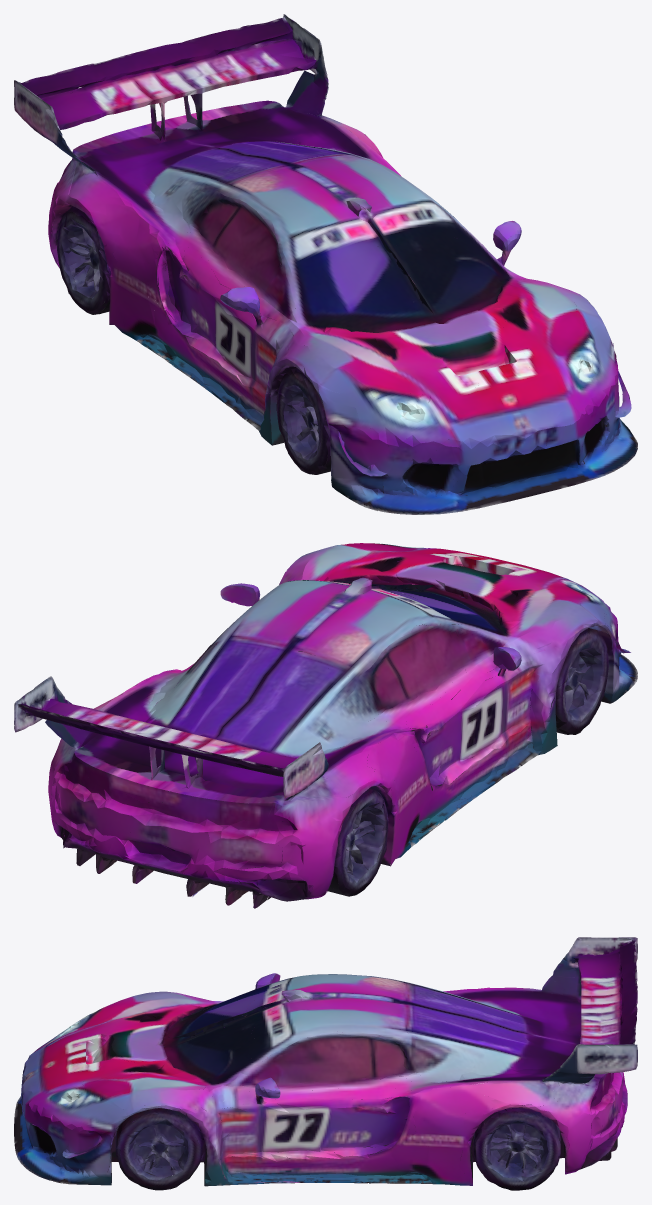
The picture shows the model from 3 angles, top to bottom: view 1: azimuth 30°, elevation 25°; view 2: azimuth 150°, elevation 25°; view 3: azimuth 270°, elevation 25°; orthographic projection. The views are drawn at different scales.
Visible parts, largest first — view 1: panel_trunk, panel_hood, panel_bumper_f, panel_roof, susp_front_L, panel_door_L, susp_rear_L, wheel_rear_L, wheel_front_L, panel_bumper_r, susp_front_R; view 2: panel_trunk, panel_roof, panel_hood, panel_bumper_r, susp_front_L, susp_rear_L, wheel_rear_L, panel_door_L, panel_bumper_f, wheel_front_L, susp_rear_R, wheel_rear_R; view 3: panel_trunk, panel_hood, panel_roof, wheel_front_R, panel_bumper_f, susp_rear_R, susp_front_R, panel_door_R, wheel_rear_R, panel_bumper_r.
Boxes of the visible parts, left/top/right/bottom form: panel_trunk: left=14, top=14, right=401, bottom=349; panel_hood: left=254, top=234, right=601, bottom=441; panel_bumper_f: left=273, top=319, right=637, bottom=514; panel_roof: left=175, top=153, right=521, bottom=315; susp_front_L: left=170, top=251, right=467, bottom=510; panel_door_L: left=147, top=239, right=278, bottom=413; susp_rear_L: left=67, top=195, right=213, bottom=394; wheel_rear_L: left=48, top=159, right=96, bottom=289; wheel_front_L: left=259, top=366, right=318, bottom=448; panel_bumper_r: left=51, top=140, right=225, bottom=324; susp_front_R: left=556, top=309, right=634, bottom=463; panel_trunk: left=14, top=636, right=426, bottom=858; panel_roof: left=170, top=577, right=521, bottom=729; panel_hood: left=280, top=543, right=600, bottom=757; panel_bumper_r: left=52, top=745, right=400, bottom=905; susp_front_L: left=414, top=600, right=636, bottom=797; susp_rear_L: left=200, top=765, right=482, bottom=908; wheel_rear_L: left=278, top=786, right=357, bottom=899; panel_door_L: left=400, top=656, right=517, bottom=836; panel_bumper_f: left=280, top=544, right=637, bottom=699; wheel_front_L: left=498, top=653, right=579, bottom=755; susp_rear_R: left=53, top=782, right=167, bottom=865; wheel_rear_R: left=48, top=739, right=107, bottom=840; panel_trunk: left=405, top=937, right=637, bottom=1185; panel_hood: left=68, top=990, right=257, bottom=1185; panel_roof: left=242, top=973, right=422, bottom=1098; wheel_front_R: left=164, top=1094, right=390, bottom=1186; panel_bumper_f: left=14, top=1013, right=202, bottom=1185; susp_rear_R: left=231, top=1079, right=622, bottom=1190; susp_front_R: left=32, top=1105, right=205, bottom=1190; panel_door_R: left=245, top=1084, right=417, bottom=1183; wheel_rear_R: left=485, top=1080, right=601, bottom=1177; panel_bumper_r: left=458, top=1072, right=627, bottom=1185.
Bounding box in the file's own units: 1.79 × 1.03 × 4.
1 material, 1 textured.
